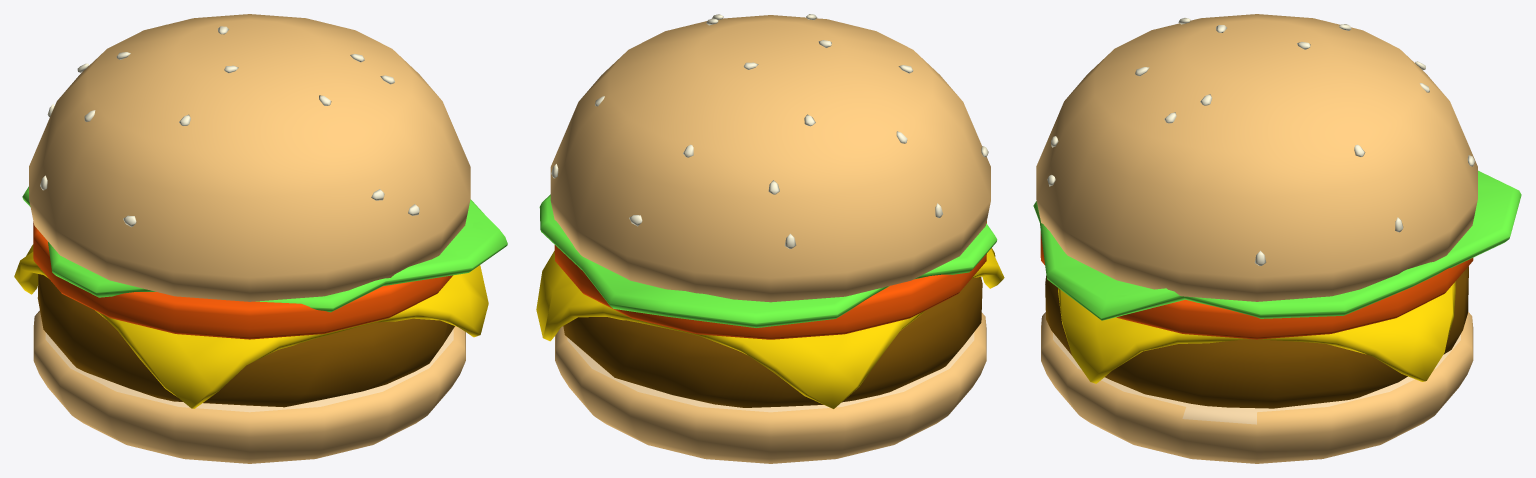
The model's file is Burger.fbx.
The picture shows the model from 3 angles, left to right: view 1: azimuth 30°, elevation 25°; view 2: azimuth 150°, elevation 25°; view 3: azimuth 270°, elevation 25°; orthographic projection.
Visible parts, largest first — view 1: Burger, Bottom_bun, beef, tomato, Cheese, Lettuce, seeds; view 2: Burger, Bottom_bun, beef, Cheese, Lettuce, tomato, seeds; view 3: Burger, Bottom_bun, beef, Lettuce, Cheese, tomato, seeds.
Boxes of the visible parts, x1,y1,x2,y2 form: Burger: (29,14,470,301); Bottom_bun: (33,310,465,463); beef: (37,274,454,407); tomato: (33,221,452,339); Cheese: (14,244,488,408); Lettuce: (22,186,507,312); seeds: (40,24,419,227); Burger: (550,15,990,302); Bottom_bun: (555,312,986,463); beef: (563,277,982,407); Cheese: (536,248,1004,408); Lettuce: (539,194,997,327); tomato: (554,221,986,339); seeds: (551,14,988,248); Burger: (1036,14,1477,301); Bottom_bun: (1041,312,1473,463); beef: (1045,266,1468,408); Lettuce: (1033,170,1521,320); Cheese: (1058,281,1455,383); tomato: (1040,231,1473,339); seeds: (1047,18,1475,265).
Bounding box in the file's own units: 47.88 × 39.62 × 51.21.
